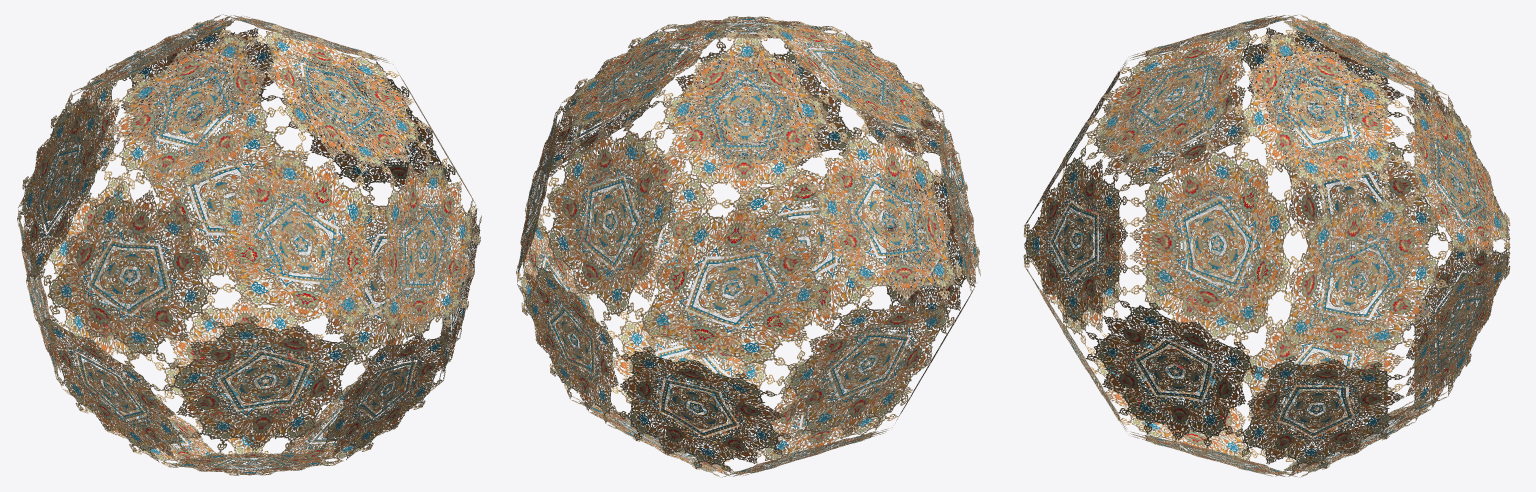
Rendered from PentagonalIcositetrahedron8.obj.
The picture shows the model from 3 angles, left to right: view 1: azimuth 30°, elevation 25°; view 2: azimuth 150°, elevation 25°; view 3: azimuth 270°, elevation 25°; orthographic projection.
Bounding box in the file's own units: 2.72 × 2.72 × 2.72.
Materials: 1 (1 with a texture image).
